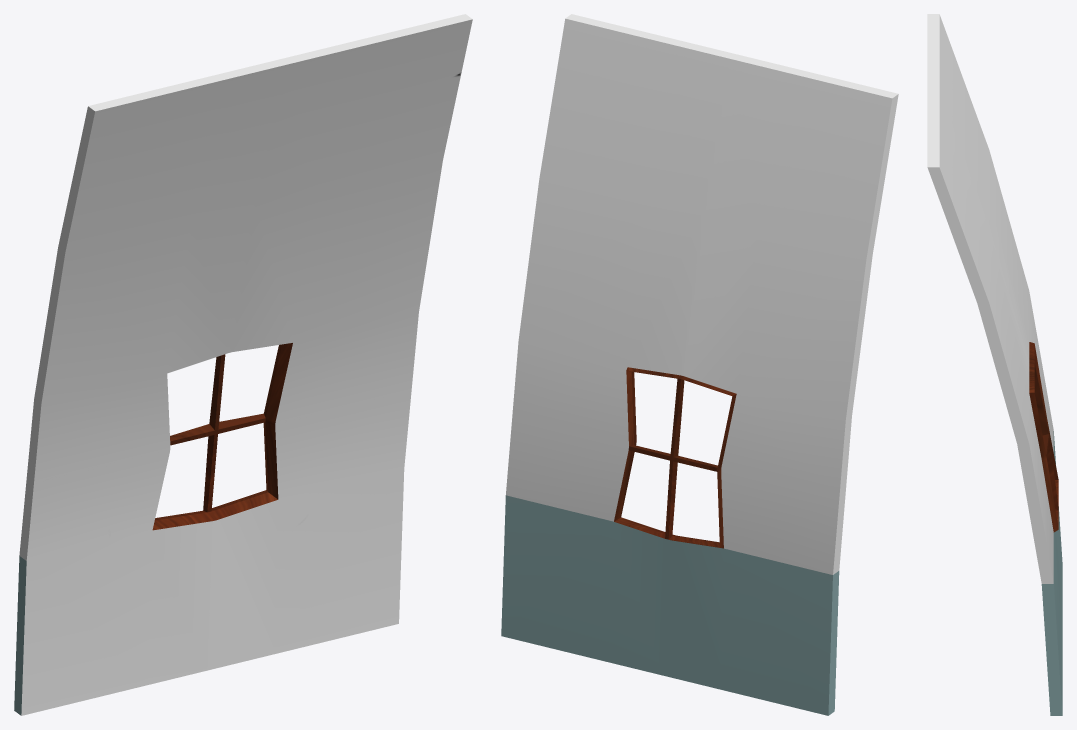
The model's file is window_wall.fbx.
The picture shows the model from 3 angles, left to right: view 1: azimuth 30°, elevation 25°; view 2: azimuth 150°, elevation 25°; view 3: azimuth 270°, elevation 25°; orthographic projection. The views are drawn at different scales.
Visible parts, largest first — view 1: windowWall; view 2: windowWall; view 3: windowWall.
Part boxes in pixels (box(x1,y1,x2,y2)): windowWall: box(14, 14, 472, 715); windowWall: box(501, 14, 898, 715); windowWall: box(927, 14, 1062, 715).
Size of the model in its own units: 300 by 500 by 112.
